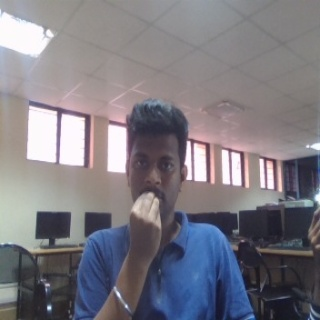Food: (126, 190, 165, 268)
